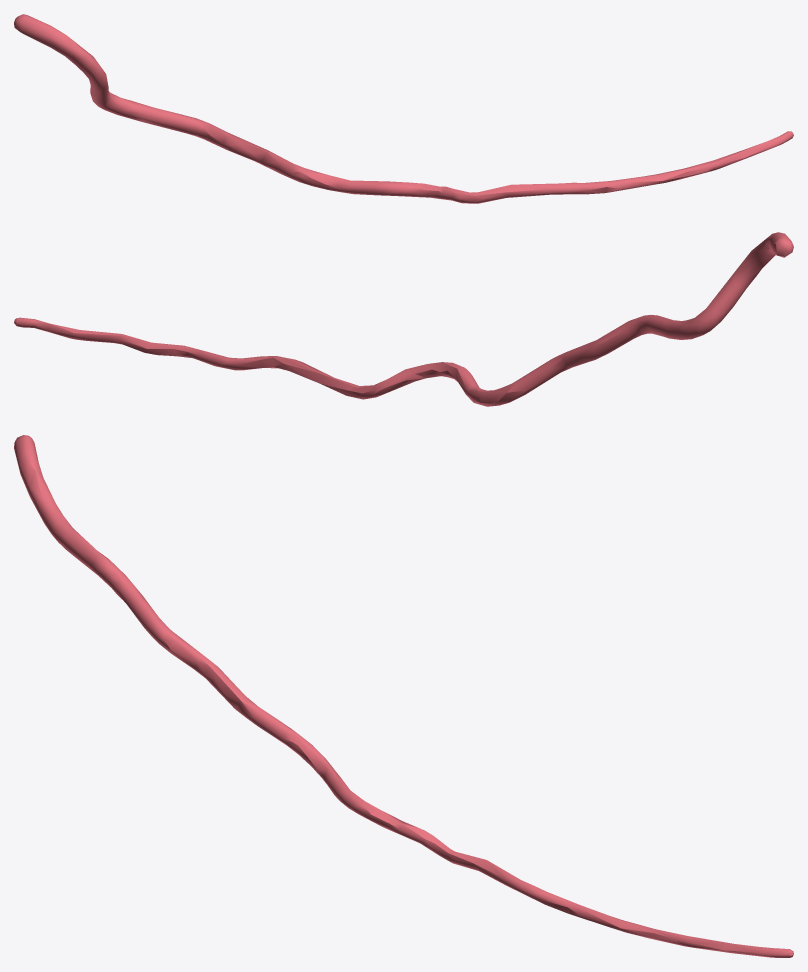
File: fma4716_fj2727.glb
The picture shows the model from 3 angles, top to bottom: view 1: azimuth 30°, elevation 25°; view 2: azimuth 150°, elevation 25°; view 3: azimuth 330°, elevation 25°; orthographic projection. The views are drawn at different scales.
Parts seen in each view (by area): view 1: FMA4716_FJ2727; view 2: FMA4716_FJ2727; view 3: FMA4716_FJ2727.
Boxes of the visible parts, x1,y1,x2,y2 form: FMA4716_FJ2727: (14, 14, 793, 203); FMA4716_FJ2727: (14, 232, 793, 406); FMA4716_FJ2727: (14, 435, 793, 957).
Size of the model in its own units: 0.0756 by 0.0276 by 0.00834.
